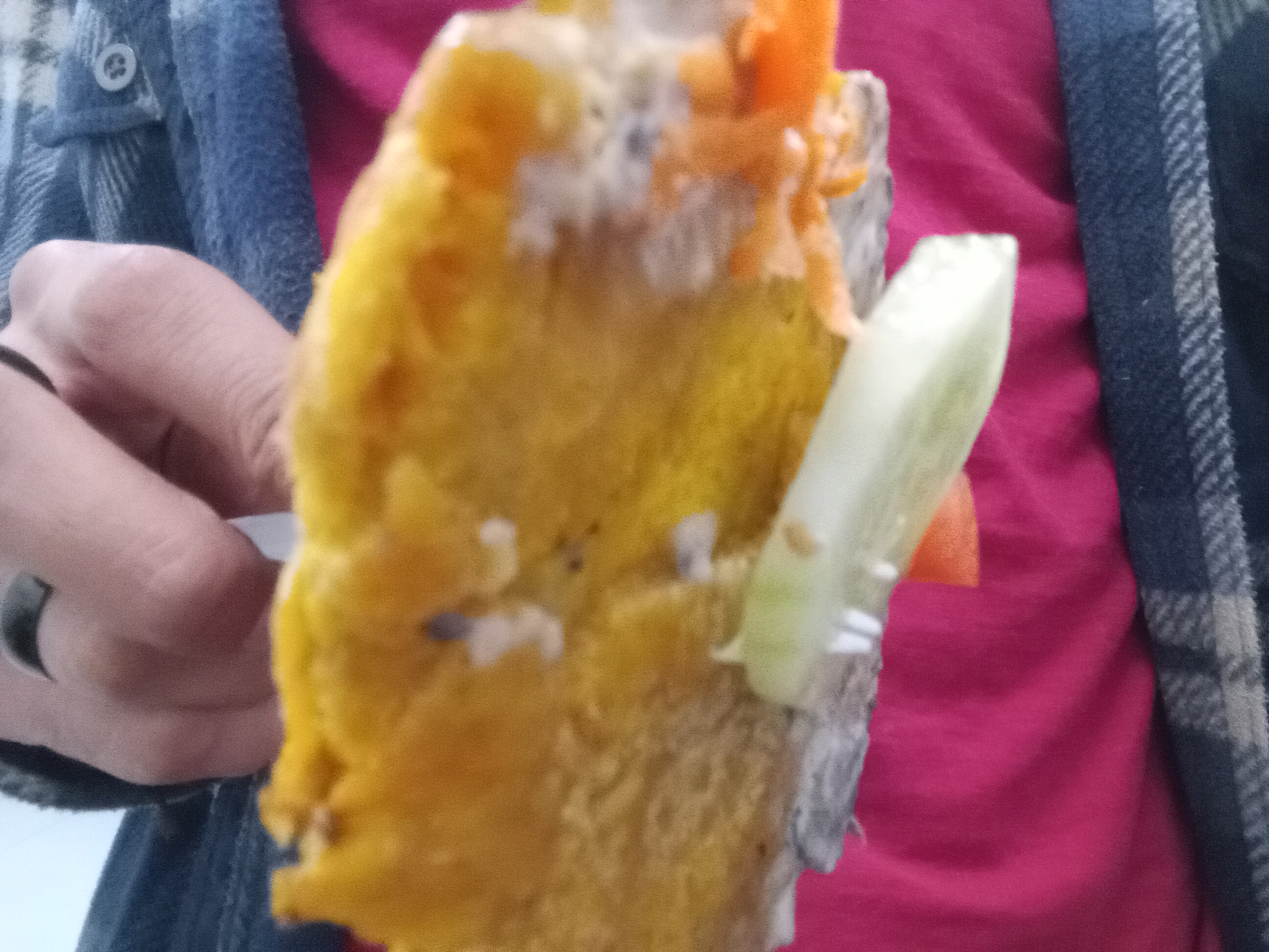Organico: (256, 0, 1021, 952)
